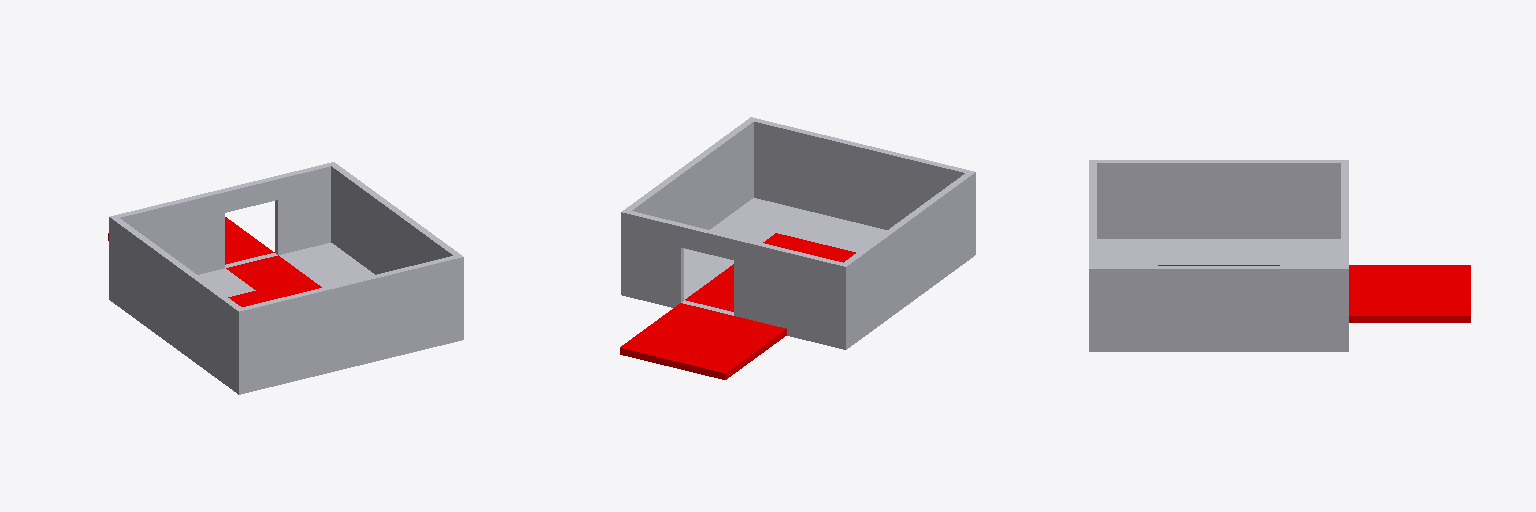
Rendered from Buisness1.obj.
The picture shows the model from 3 angles: view 1: azimuth 30°, elevation 25°; view 2: azimuth 150°, elevation 25°; view 3: azimuth 270°, elevation 25°; orthographic projection.
Visible parts, largest first — view 1: Floorpannel5, Floorpannel7, Floorpannel6, Floorpannel4, Floorpannel3, Noplacefloorpannel5, Floorpannel9, Floorpannel1, Noplacefloorpannel2, Floorpannel12, Floorpannel8, Noplacefloorpannel6; view 2: Floorpannel5, Floorpannel7, Floorpannel4, Floorpannel6, Floorpannel3, Noplacefloorpannel4, Noplacefloorpannel3, Noplacefloorpannel1, Floorpannel13, Floorpannel15, Noplacefloorpannel2, Floorpannel1 (+5 smaller); view 3: Floorpannel6, Floorpannel7, Noplacefloorpannel2, Noplacefloorpannel3, Noplacefloorpannel1, Noplacefloorpannel4, Floorpannel10, Floorpannel11, Floorpannel17, Floorpannel18, Floorpannel5, Floorpannel3.
Part boxes in pixels (left/top/right/bottom): Floorpannel5: left=235, top=254, right=463, bottom=394; Floorpannel7: left=113, top=218, right=240, bottom=391; Floorpannel6: left=331, top=165, right=458, bottom=274; Floorpannel4: left=109, top=189, right=224, bottom=301; Floorpannel3: left=275, top=162, right=337, bottom=254; Noplacefloorpannel5: left=226, top=255, right=308, bottom=290; Floorpannel9: left=279, top=243, right=360, bottom=277; Floorpannel1: left=222, top=176, right=277, bottom=212; Noplacefloorpannel2: left=225, top=230, right=274, bottom=264; Floorpannel12: left=198, top=268, right=255, bottom=296; Floorpannel8: left=310, top=265, right=374, bottom=287; Noplacefloorpannel6: left=257, top=278, right=321, bottom=300; Floorpannel5: left=748, top=117, right=975, bottom=257; Floorpannel7: left=844, top=173, right=971, bottom=346; Floorpannel4: left=734, top=237, right=849, bottom=349; Floorpannel6: left=625, top=120, right=753, bottom=229; Floorpannel3: left=621, top=210, right=683, bottom=307; Noplacefloorpannel4: left=672, top=338, right=755, bottom=379; Noplacefloorpannel3: left=620, top=325, right=702, bottom=366; Noplacefloorpannel1: left=704, top=316, right=786, bottom=357; Floorpannel13: left=777, top=211, right=859, bottom=245; Floorpannel15: left=724, top=198, right=805, bottom=232; Noplacefloorpannel2: left=651, top=303, right=732, bottom=337; Floorpannel1: left=681, top=224, right=736, bottom=259; Floorpannel6: left=1097, top=266, right=1340, bottom=351; Floorpannel7: left=1097, top=160, right=1340, bottom=238; Noplacefloorpannel2: left=1349, top=291, right=1409, bottom=322; Noplacefloorpannel3: left=1410, top=291, right=1470, bottom=322; Noplacefloorpannel1: left=1349, top=265, right=1409, bottom=290; Noplacefloorpannel4: left=1410, top=265, right=1470, bottom=290; Floorpannel10: left=1219, top=239, right=1279, bottom=264; Floorpannel11: left=1280, top=239, right=1340, bottom=264; Floorpannel17: left=1097, top=239, right=1157, bottom=264; Floorpannel18: left=1158, top=239, right=1218, bottom=264; Floorpannel5: left=1089, top=160, right=1096, bottom=351; Floorpannel3: left=1341, top=240, right=1348, bottom=351.
Bounding box in the file's own units: 8.5 × 3 × 12.5.